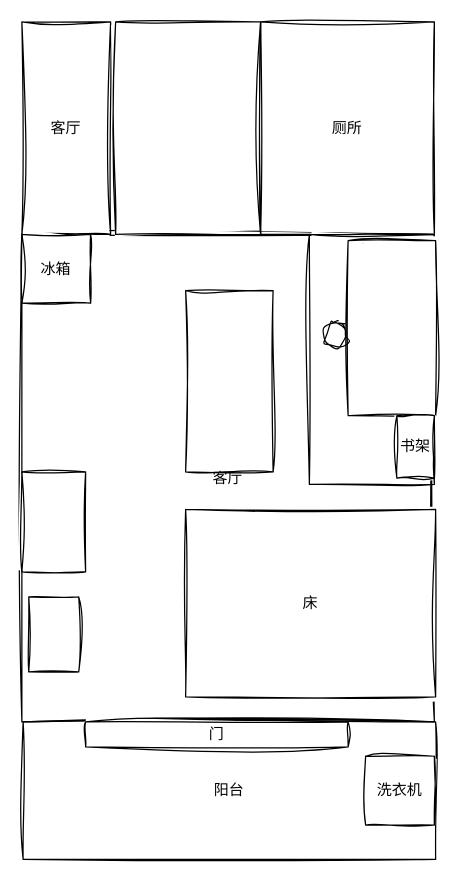
Image size: 458x881. Some labels were removed from this diagram. Each missing label, with the box of its shape:
下桌: (347, 239, 436, 416)
沙发: (184, 289, 273, 472)
衣架: (21, 471, 86, 572)
过道: (114, 21, 261, 234)
鼠子: (28, 596, 79, 672)
